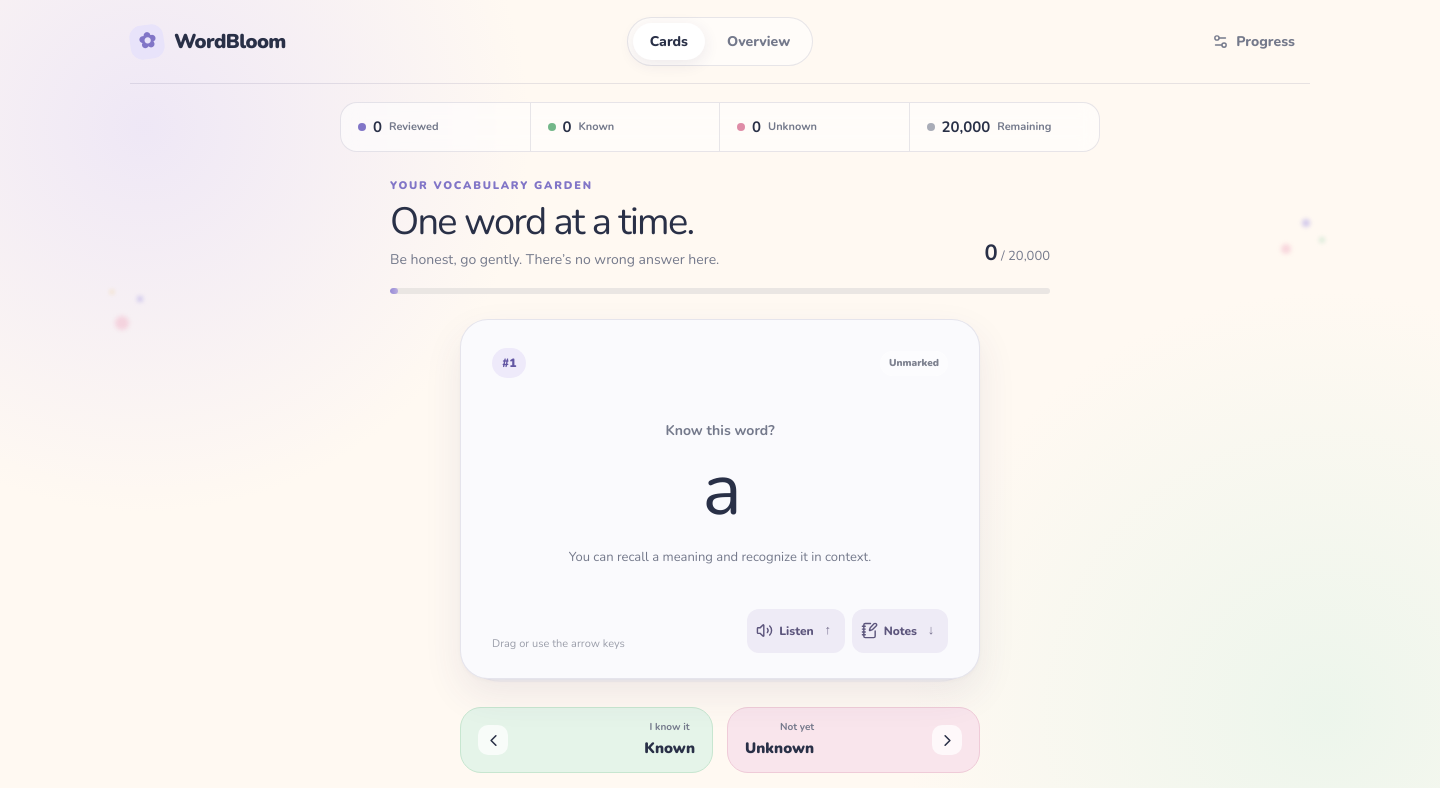
Test: WordBloom interactions › keeps only three cards mounted and maps buttons to the requested states
expect the number of elements with class "word-card" is 3: met, box [473,340,967,682]; [466,330,974,680]; [460,319,980,679]
expect the element named ", rank 1, unmarked" is shown: met, box [460,319,980,679]
Click the button named "i know itknown" at (586, 740), box [460,707,713,773]
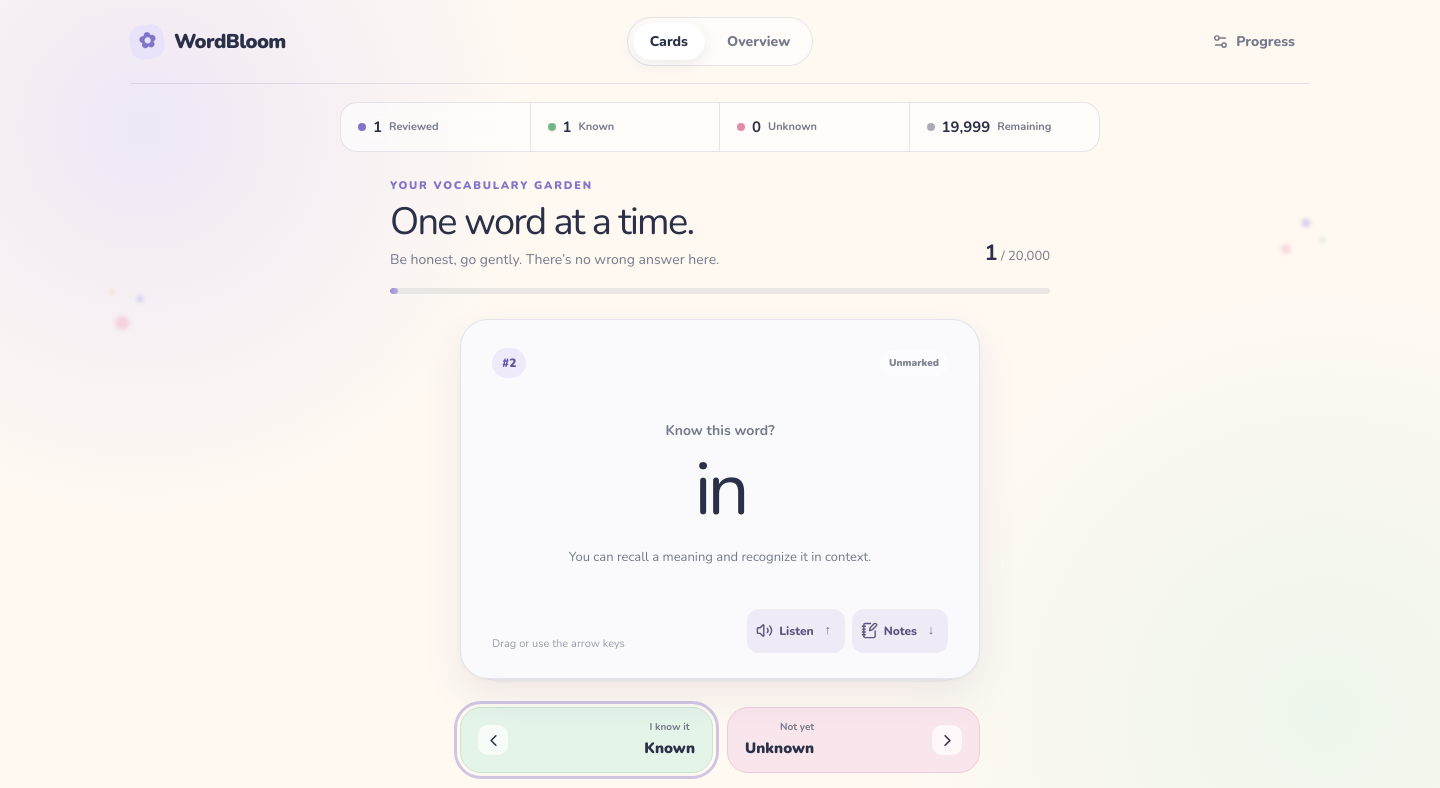
expect the element named ", rank 2, unmarked" is shown: met, box [460,319,980,679]
Click the button named "not yetunknown" at (854, 740), box [727,707,980,773]
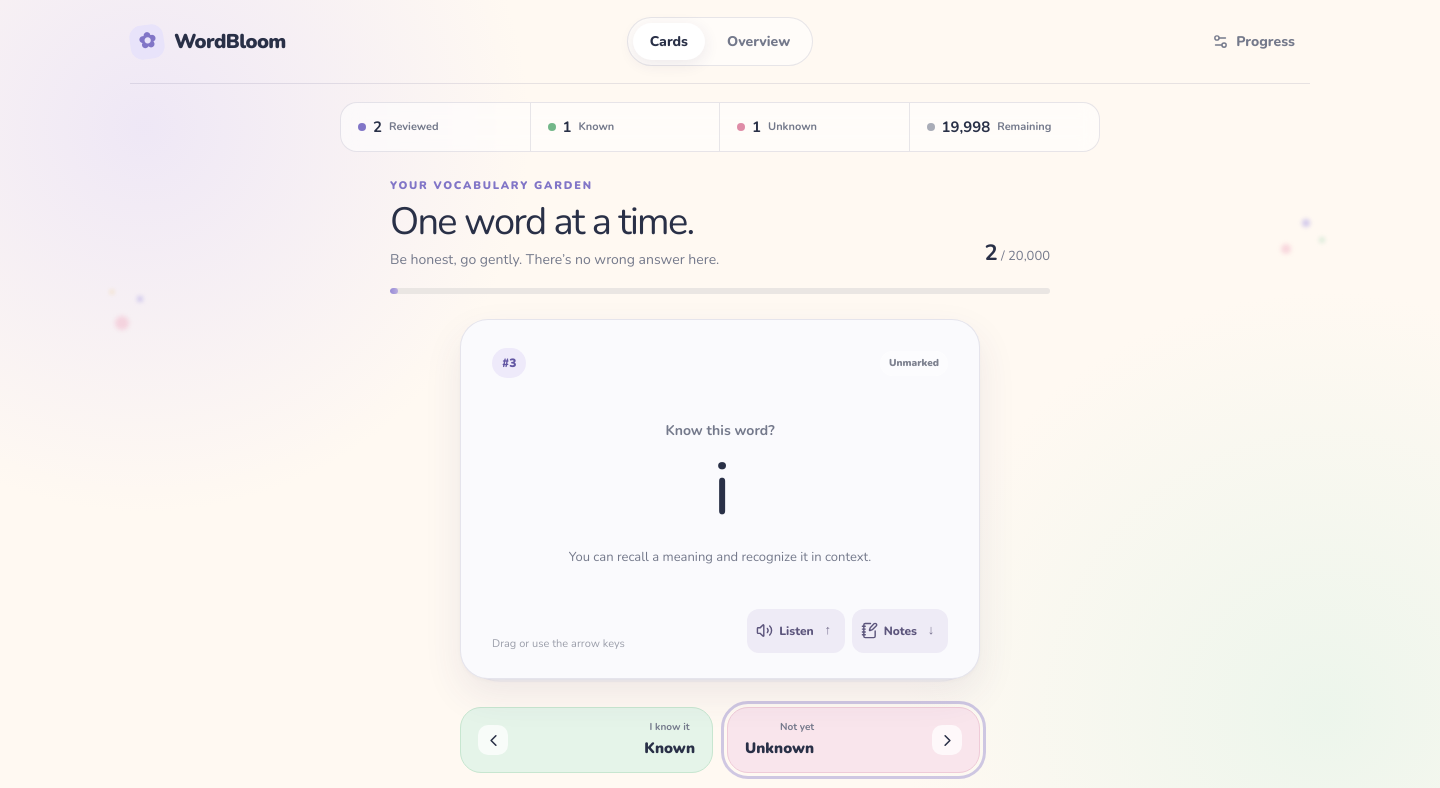
expect the element named ", rank 3, unmarked" is shown: met, box [460,319,980,679]
